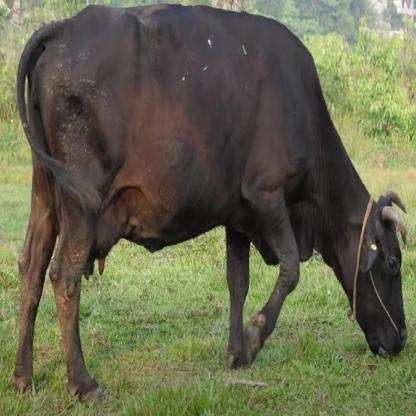cow: (10, 2, 406, 405)
